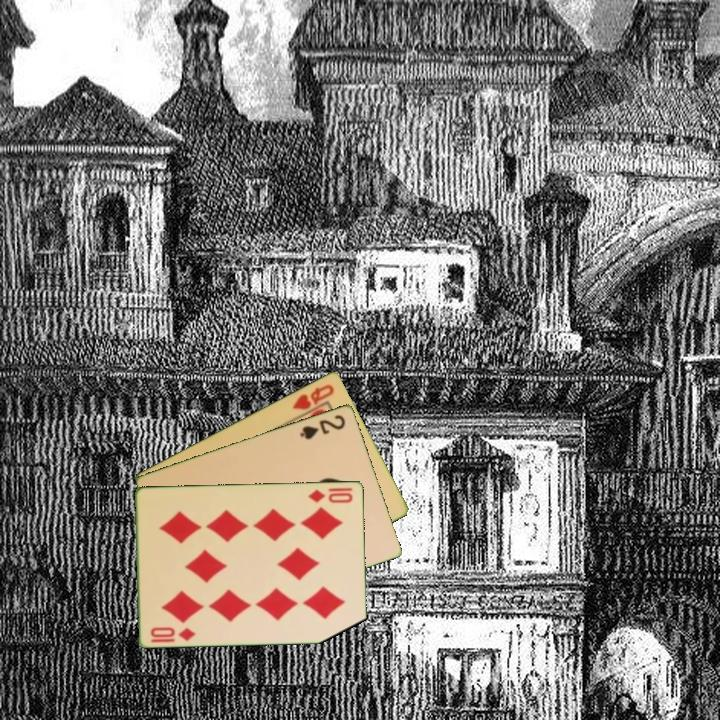10d: (305, 485, 356, 506), (147, 623, 198, 644)
2s: (296, 411, 348, 442)
Qh: (289, 380, 337, 412)
